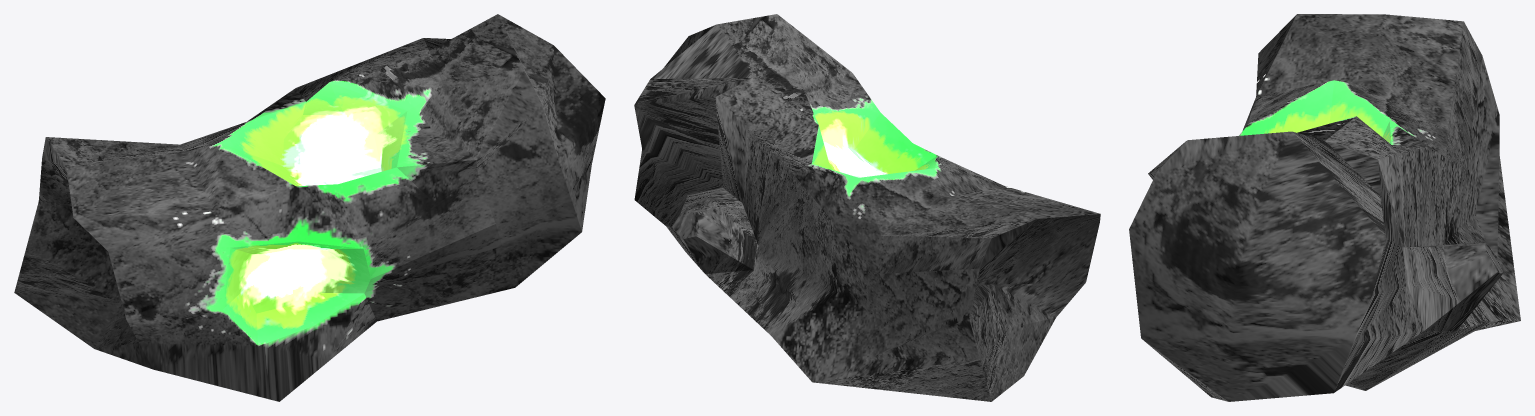
Rendered from meteor_square_2.fbx.
3 renders of one model, left to right at view 1: azimuth 30°, elevation 25°; view 2: azimuth 150°, elevation 25°; view 3: azimuth 270°, elevation 25°, orthographic. The views are drawn at different scales.
Parts seen in each view (by area): view 1: pCube1; view 2: pCube1; view 3: pCube1.
Part boxes in pixels (<box>): pCube1: <box>14,14,605,401</box>; pCube1: <box>634,14,1100,401</box>; pCube1: <box>1129,14,1520,401</box>.
Bounding box in the file's own units: 2.34 × 1.4 × 1.39.
Materials: 1 (1 with a texture image).
